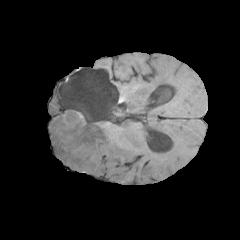glioma: (50, 86, 136, 174)
